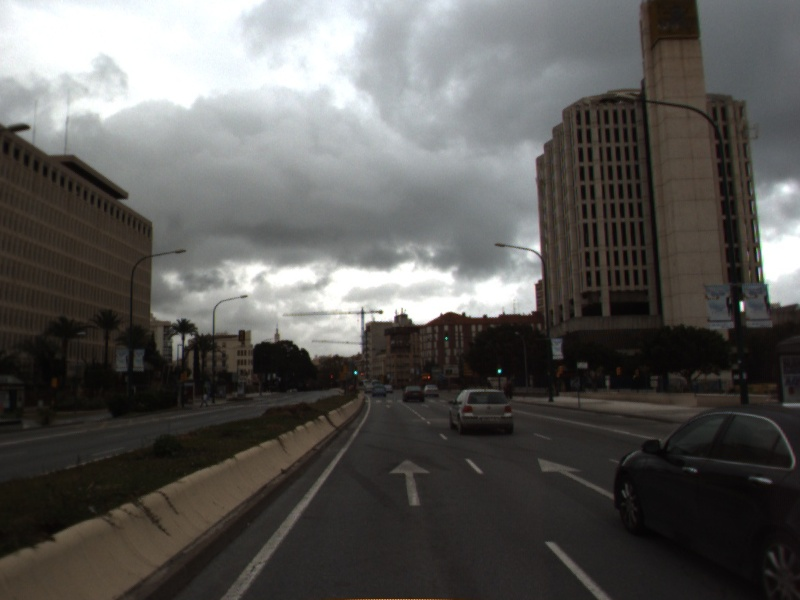STRAIGHT: (536, 456, 616, 501), (386, 457, 433, 508)
